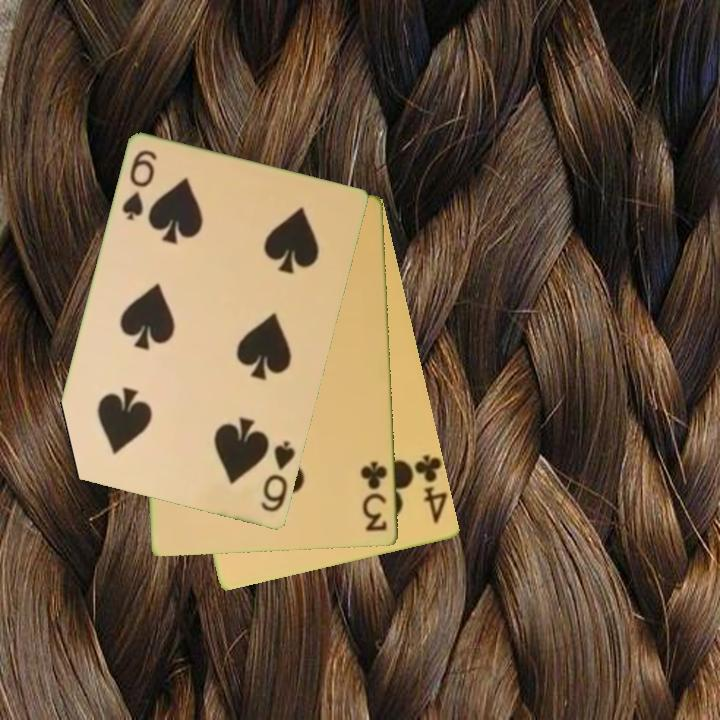3c: (357, 458, 391, 535)
4c: (411, 451, 450, 526)
6s: (257, 437, 299, 516), (119, 147, 160, 224)
